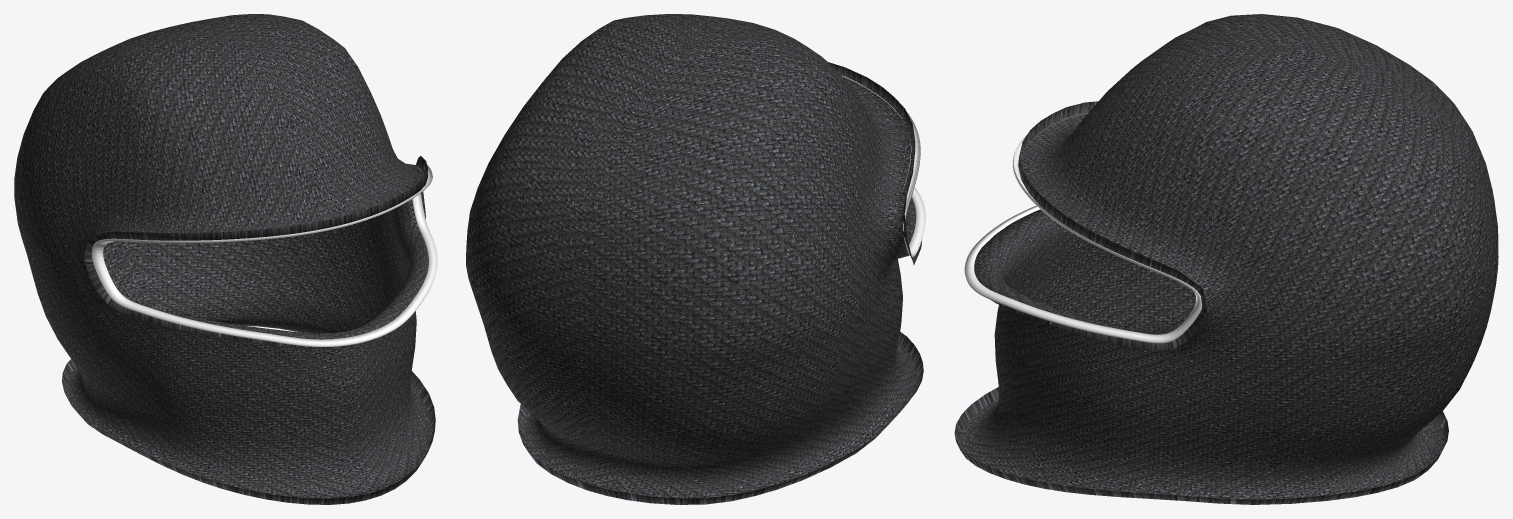
The model's file is helmet.glb.
The picture shows the model from 3 angles, left to right: view 1: azimuth 30°, elevation 25°; view 2: azimuth 150°, elevation 25°; view 3: azimuth 270°, elevation 25°; orthographic projection. The views are drawn at different scales.
Parts seen in each view (by area): view 1: shell.011, shell.012; view 2: shell.011, shell.012; view 3: shell.011, shell.012.
Part boxes in pixels (left/top/right/bottom): shell.011: left=14, top=14, right=435, bottom=504; shell.012: left=91, top=164, right=437, bottom=346; shell.011: left=466, top=14, right=923, bottom=504; shell.012: left=841, top=75, right=925, bottom=257; shell.011: left=954, top=14, right=1498, bottom=504; shell.012: left=964, top=112, right=1201, bottom=343.
Size of the model in its own units: 0.2148 by 0.2207 by 0.2752.
2 materials, 1 textured.
